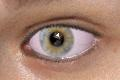eye: (40, 25, 74, 56)
